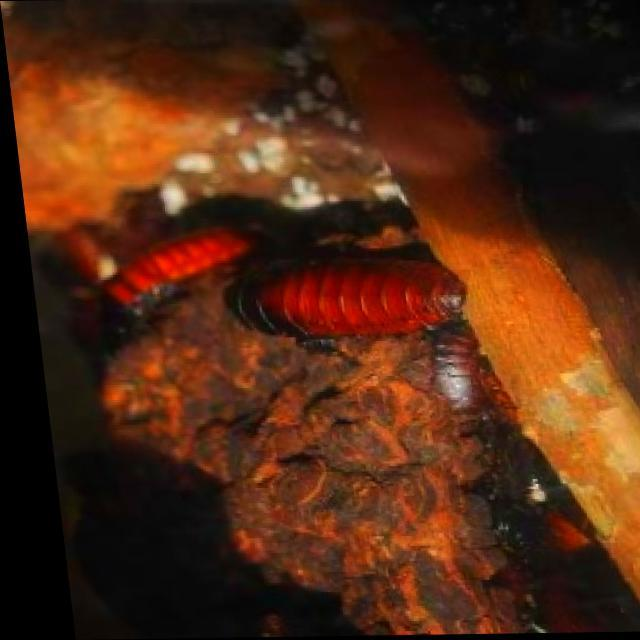cockroach: (229, 226, 489, 365), (58, 187, 292, 336)
